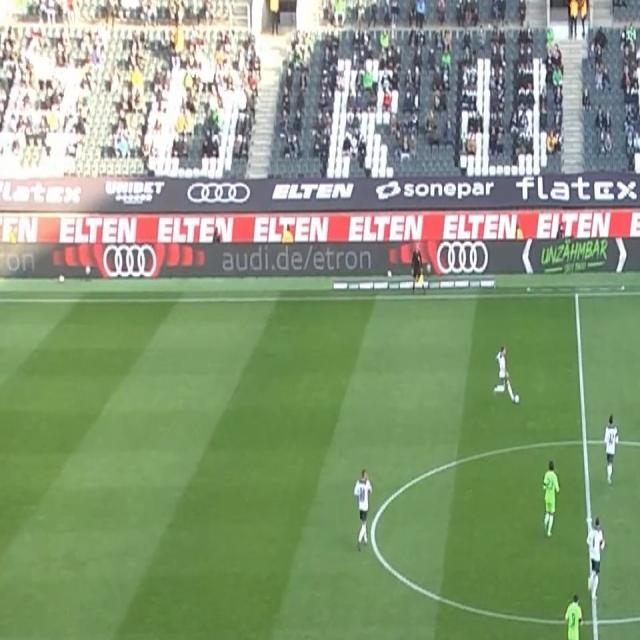ball: (514, 392, 520, 406)
